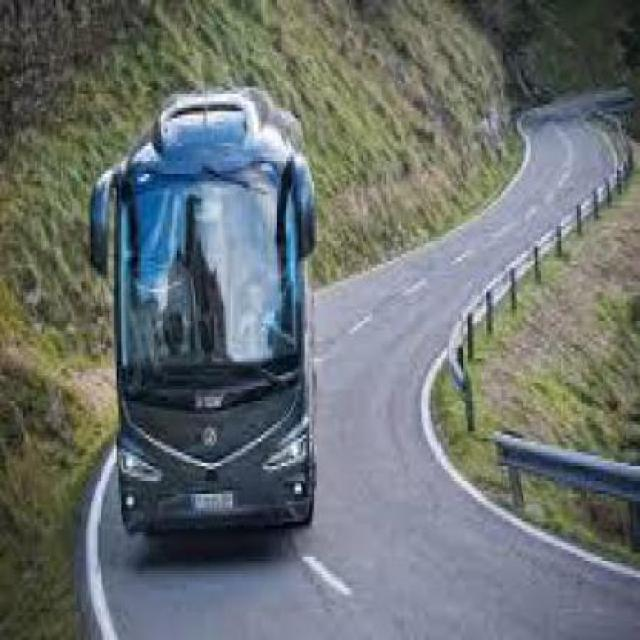bus: (88, 85, 319, 530)
